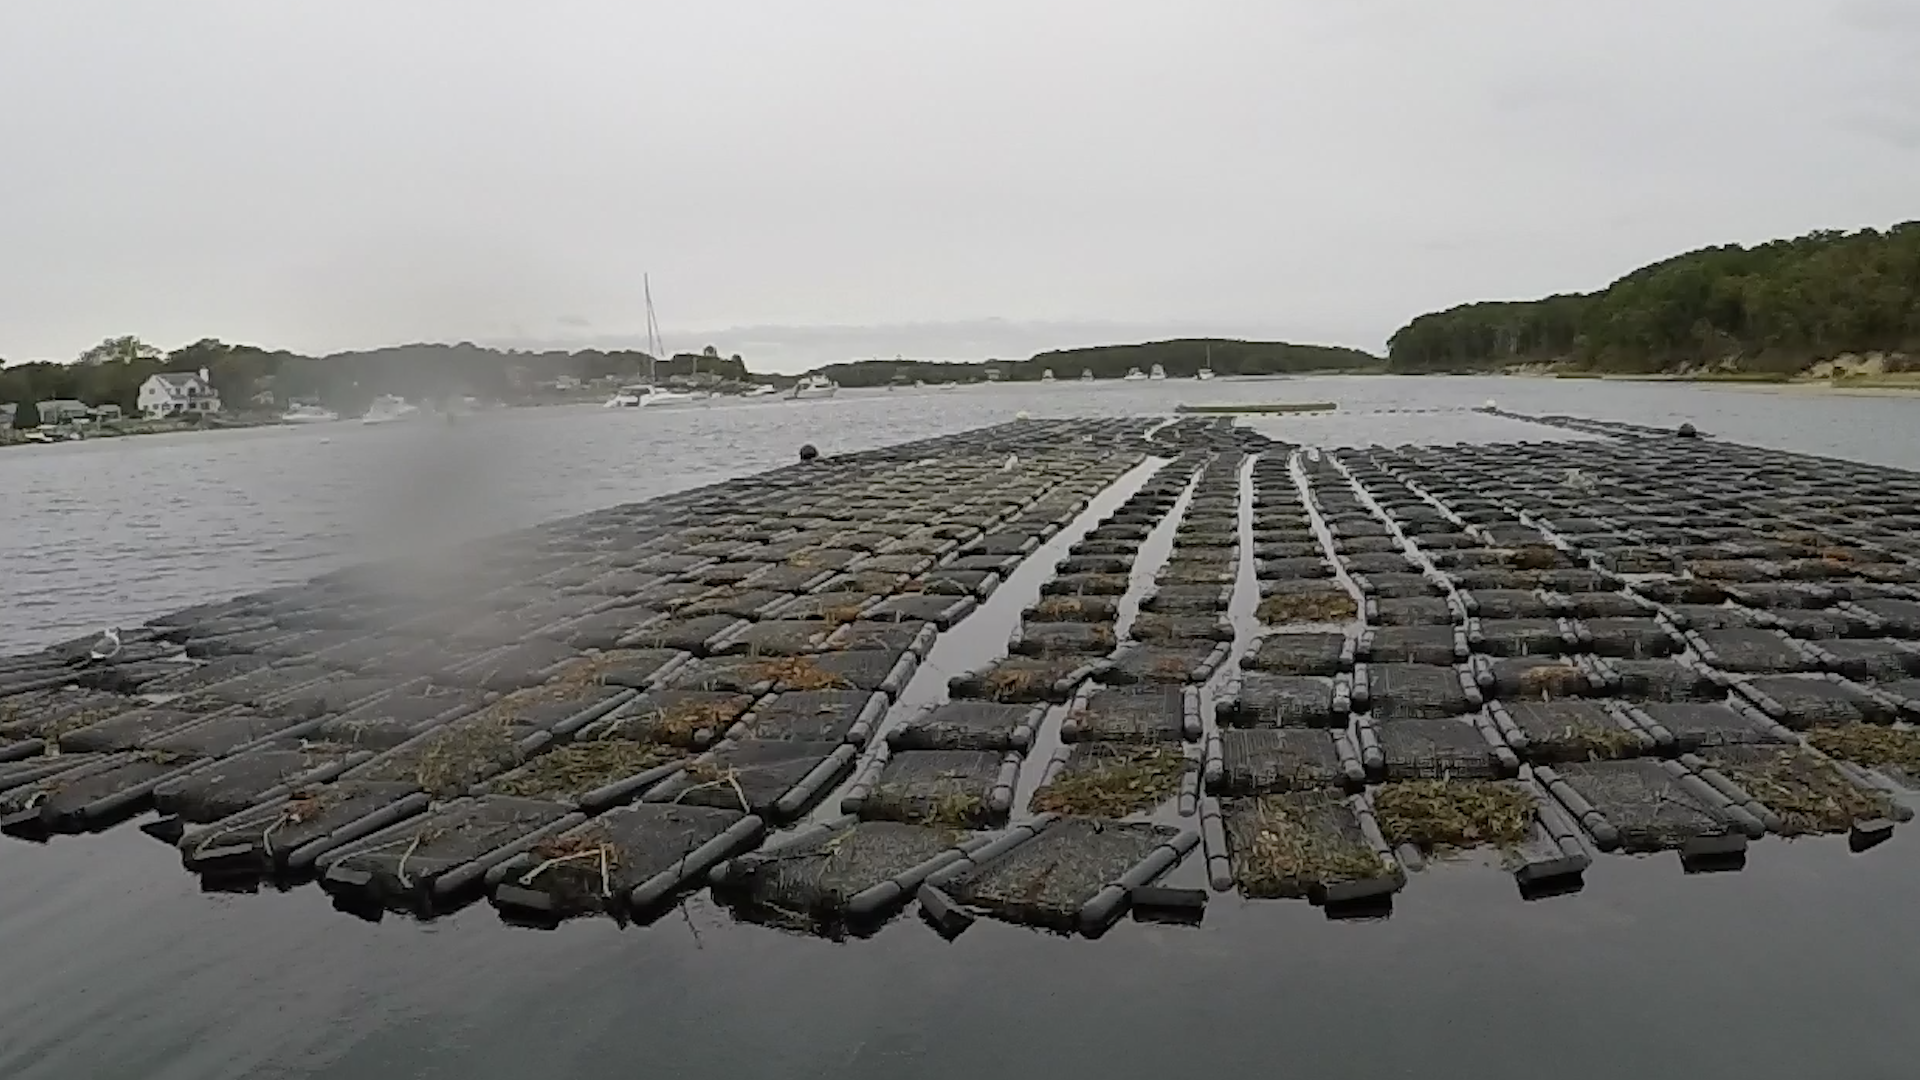bag: (709, 820, 993, 942), (913, 812, 1197, 920), (487, 800, 742, 909), (1691, 738, 1912, 837), (1379, 770, 1590, 873), (1203, 781, 1403, 889), (1539, 760, 1767, 840), (836, 740, 1025, 822), (1036, 742, 1203, 820), (1352, 709, 1518, 777), (1205, 723, 1364, 793)
